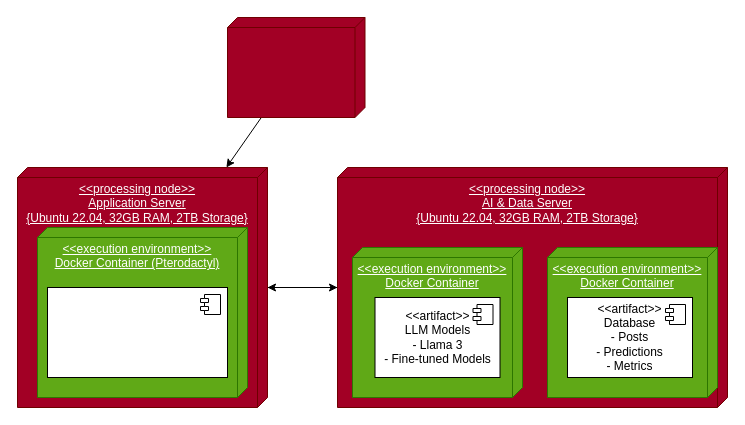
The diagram is 745 pixels wide and 425 high, and some of its shapes have lost their labels. The shapes that lost their labels are listed below. From the top down, each one's centre as x and y in pixels, then its label:
At point (295, 67): "<<device>> Client Browser".
At point (137, 332): "<<artifact>> Flask Application - app.py - Moderation Engine - UI Templates".
